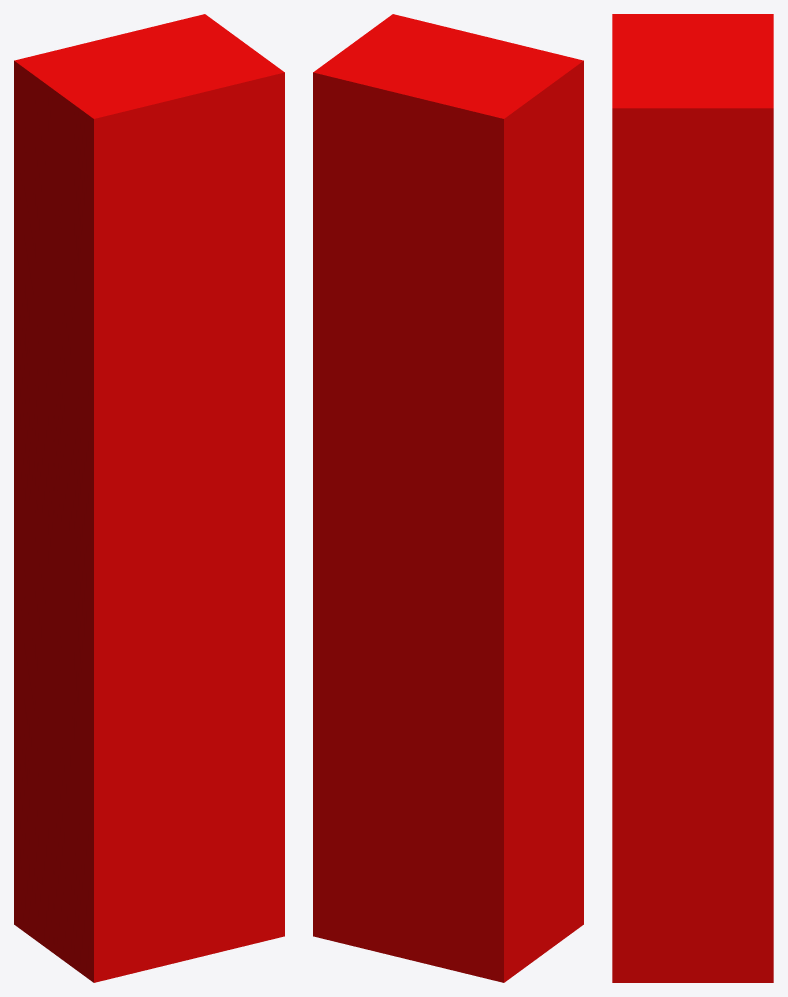
Rendered from clavicle_lv_col.dae.
The picture shows the model from 3 angles, left to right: view 1: azimuth 30°, elevation 25°; view 2: azimuth 150°, elevation 25°; view 3: azimuth 270°, elevation 25°; orthographic projection.
Visible parts, largest first — view 1: node0; view 2: node0; view 3: node0.
Boxes of the visible parts, x1=… form: node0: x1=14, y1=14, x2=284, y2=982; node0: x1=313, y1=14, x2=583, y2=982; node0: x1=612, y1=14, x2=773, y2=982.
Size of the model in its own units: 0.0372 by 0.1609 by 0.027.
